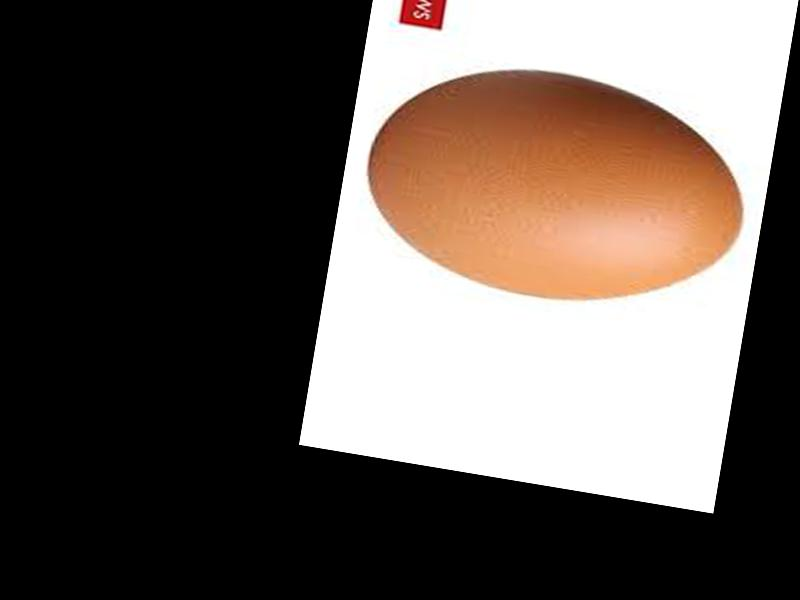Eggs: (353, 45, 757, 327)
